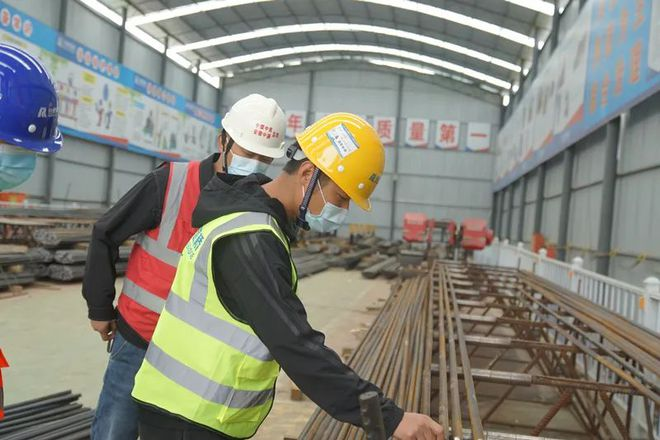person: (129, 109, 446, 440), (80, 93, 287, 440)
reflective_vest: (128, 210, 299, 440), (112, 158, 201, 347)
safety_helmet: (282, 110, 388, 236), (216, 92, 287, 178)
